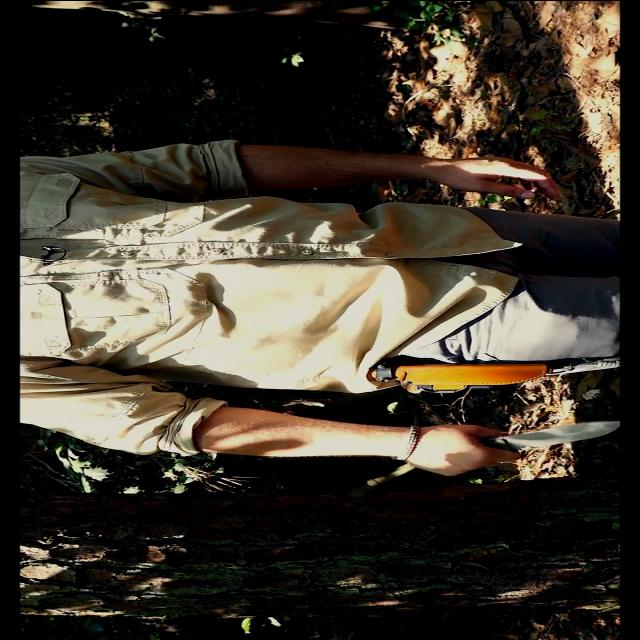knife: (453, 416, 630, 474)
